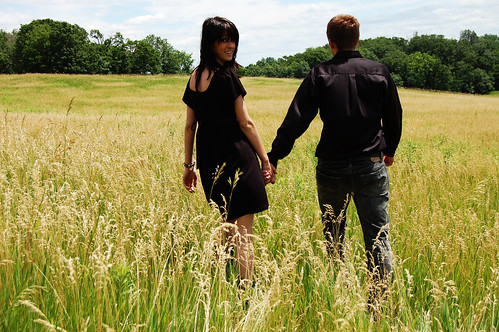female: (177, 12, 273, 282)
male: (269, 11, 406, 296)
